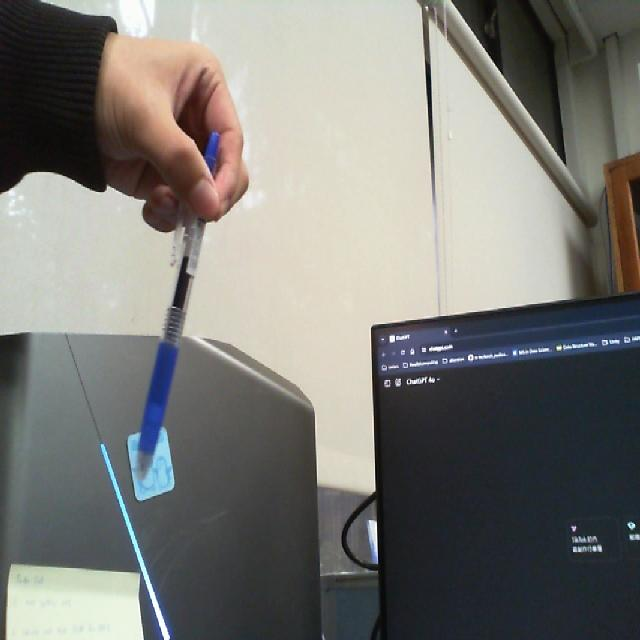Pen: (129, 119, 233, 492)
